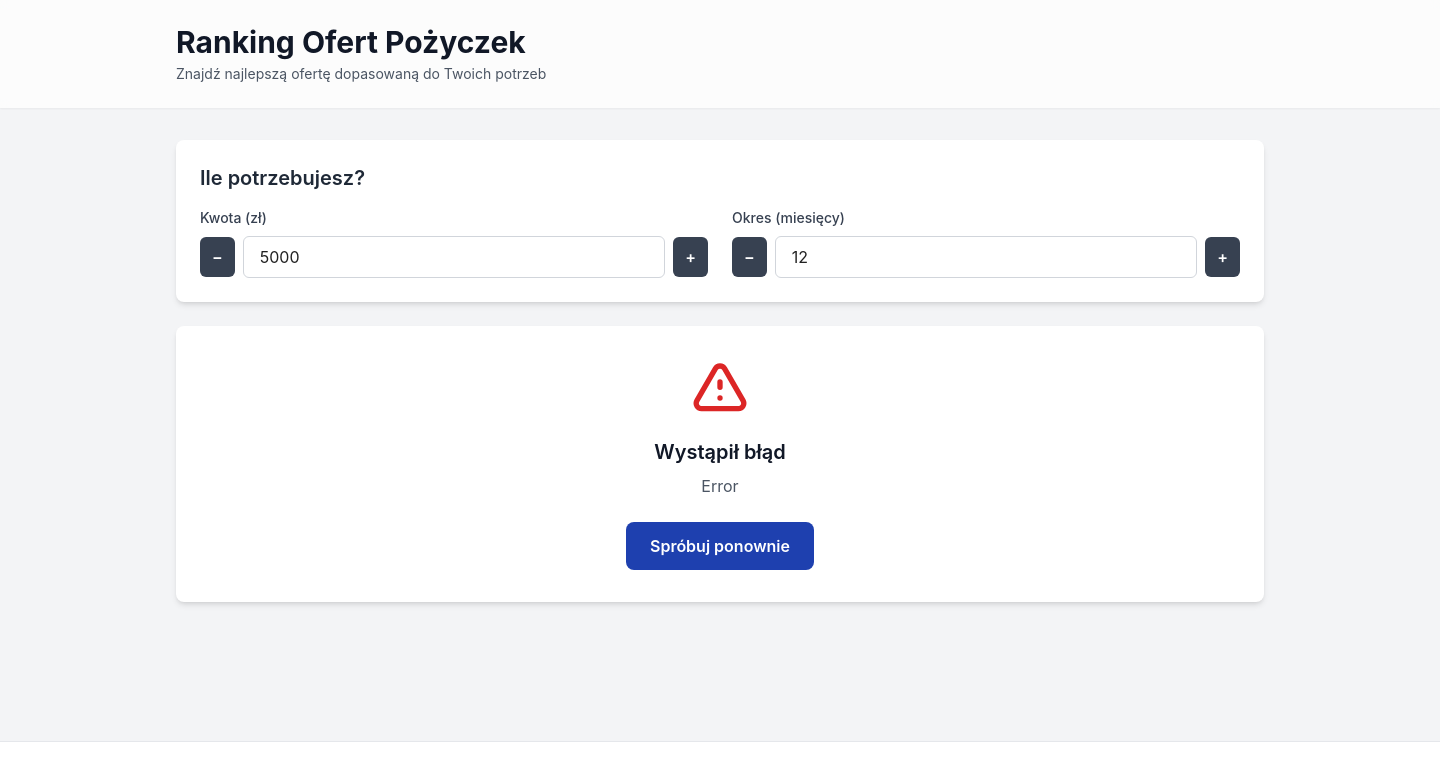
Test: App Integration Tests › Error Handling › should retry fetching when retry button is clicked
Expected: the heading "Wystąpił błąd" is shown, left=654, top=440, right=786, bottom=464
Click the button "Spróbuj ponownie" at (720, 546), box left=626, top=522, right=814, bottom=570
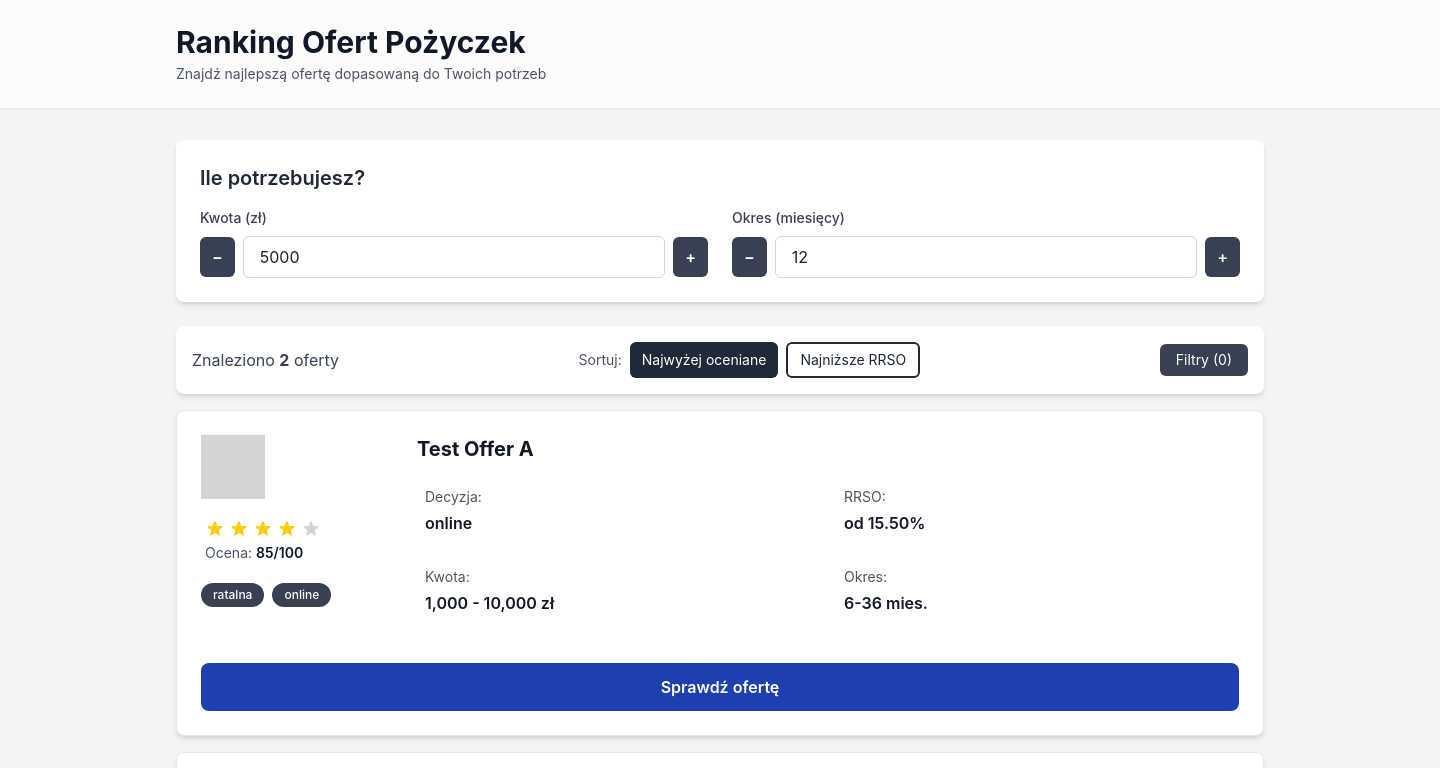
Result: the heading "Test Offer A" is shown at left=417, top=437, right=534, bottom=461
